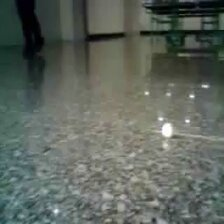w: (160, 121, 175, 138)
